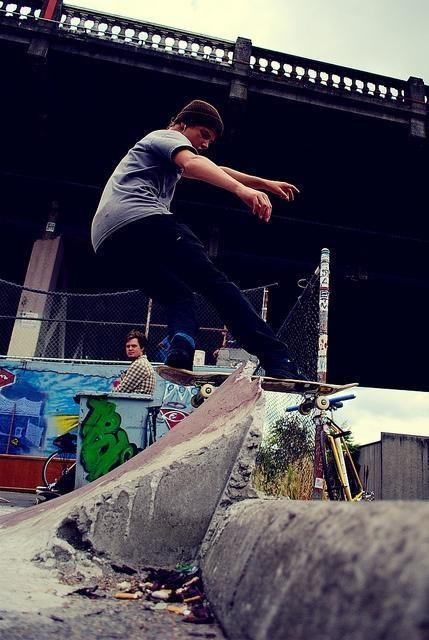bicycle: (320, 410, 364, 501), (39, 430, 78, 493)
